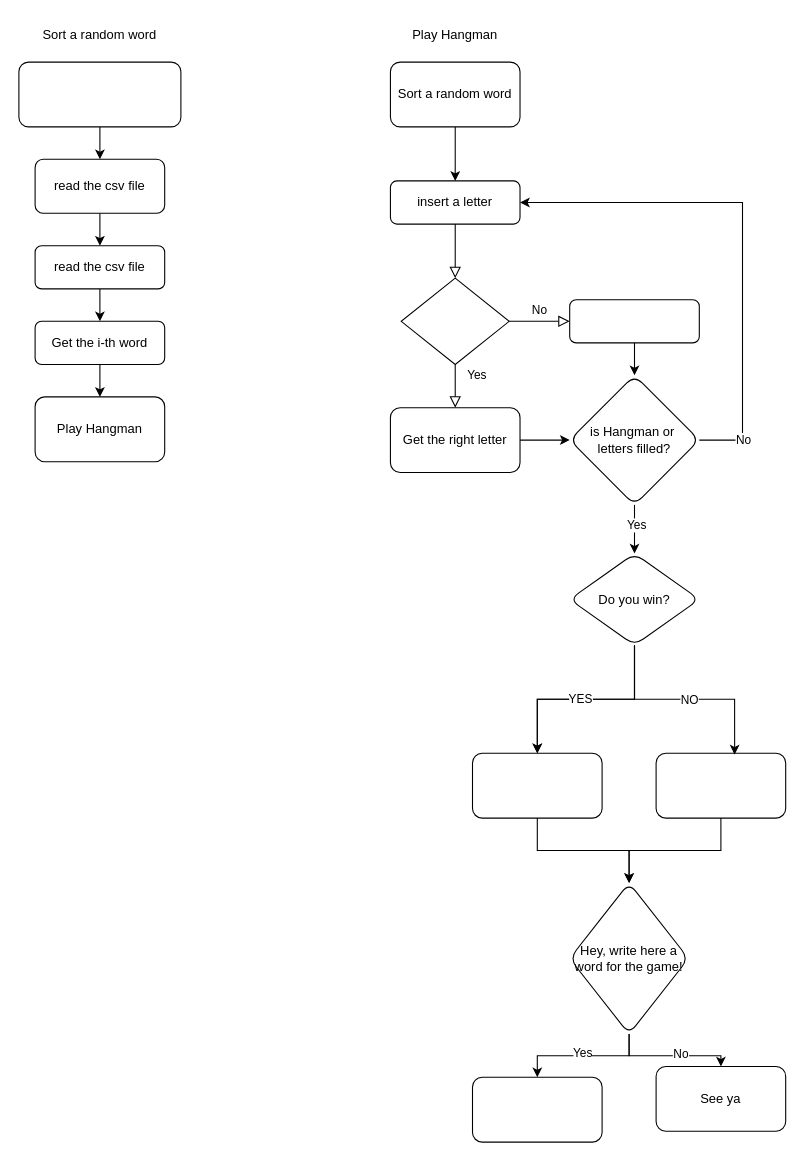
Some shapes in this 805 by 1161 pixel diagram are drawn without their labels. The shapes that lost their labels are listed below. From the top down, each one's centre as x and y in pixels, then its label:
At (99,94): "Sort a random number between 0 and number of elements on words.csv".
At (454,320): "is the letter right?".
At (634,321): "Get a letter in HANGMAN".
At (536,785): "You won".
At (720,785): "Better luck next time".
At (536,1109): "Insert the new word on csv".
